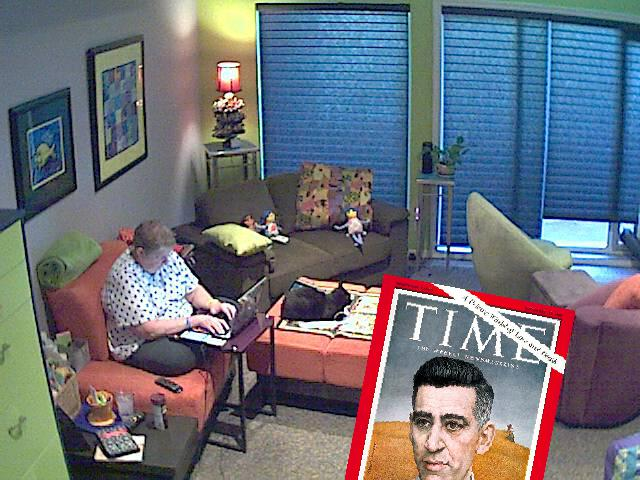times: (344, 273, 576, 479)
